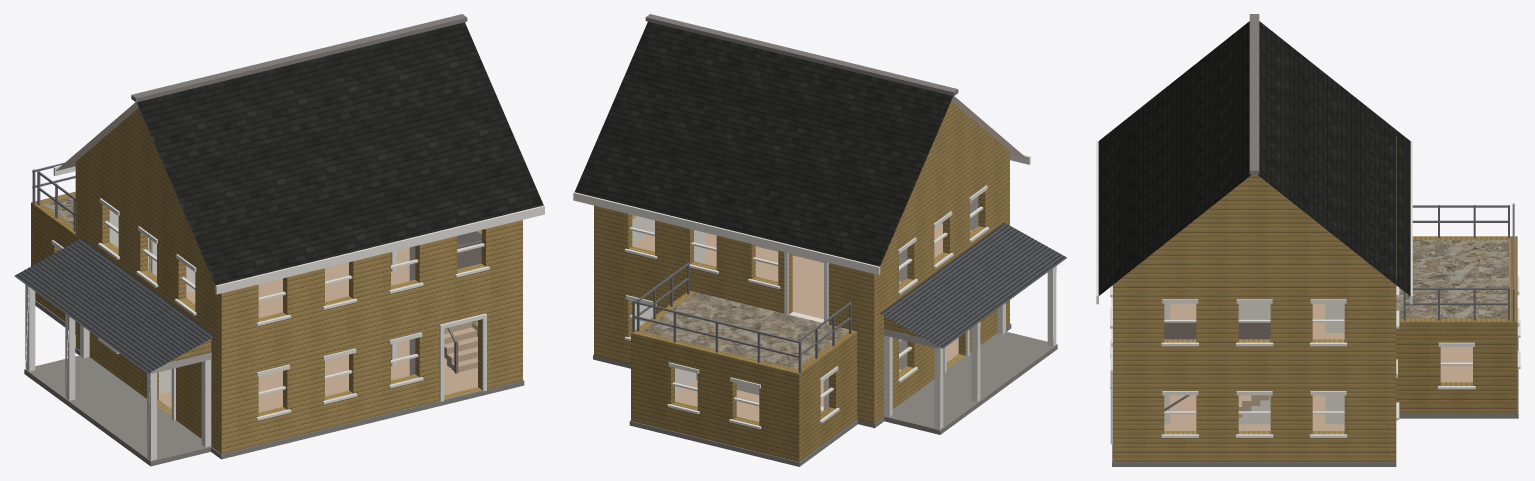
File: mh-company-house.towns-v2.lod0.glb
3 renders of one model, left to right at view 1: azimuth 30°, elevation 25°; view 2: azimuth 150°, elevation 25°; view 3: azimuth 270°, elevation 25°, orthographic. The views are drawn at different scales.
Parts seen in each view (by area): view 1: mh-company-house; view 2: mh-company-house; view 3: mh-company-house.
Part boxes in pixels (left/top/right/bottom): mh-company-house: left=14, top=14, right=544, bottom=466; mh-company-house: left=573, top=14, right=1066, bottom=466; mh-company-house: left=1096, top=14, right=1520, bottom=466.
Size of the model in its own units: 12.75 by 9.94 by 12.58.
7 materials, 4 textured.
